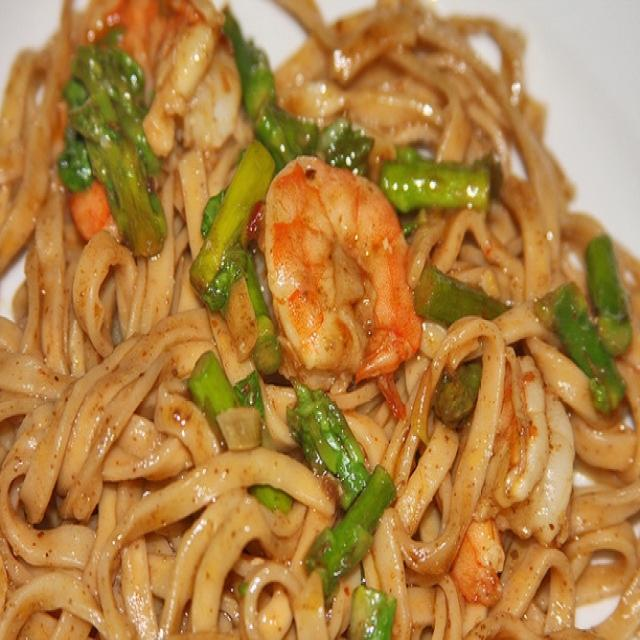面条主食: (5, 8, 628, 626)
